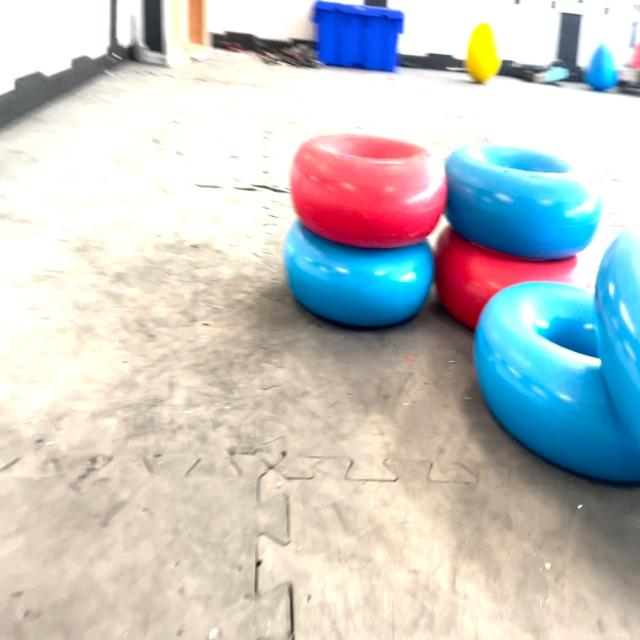Blue-Ring: (474, 282, 640, 482), (445, 144, 601, 260), (284, 220, 434, 327), (595, 231, 640, 451)
Red-Ring: (290, 136, 448, 249), (435, 227, 578, 329)
